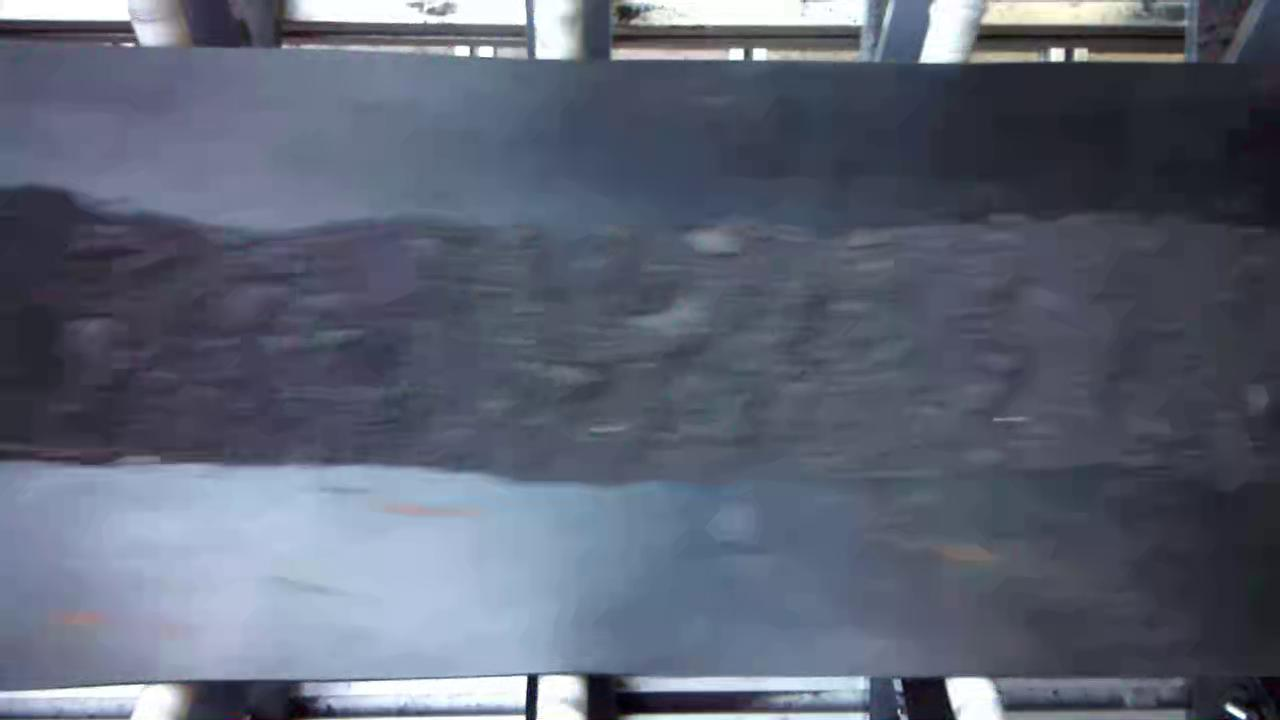conveyor: (8, 71, 1273, 664)
